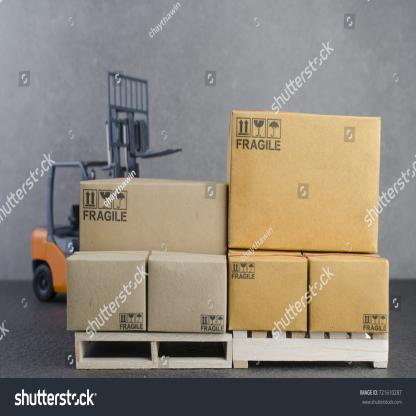box: (228, 110, 382, 254), (147, 257, 227, 335), (66, 256, 147, 332), (309, 258, 389, 333), (228, 258, 307, 333)
